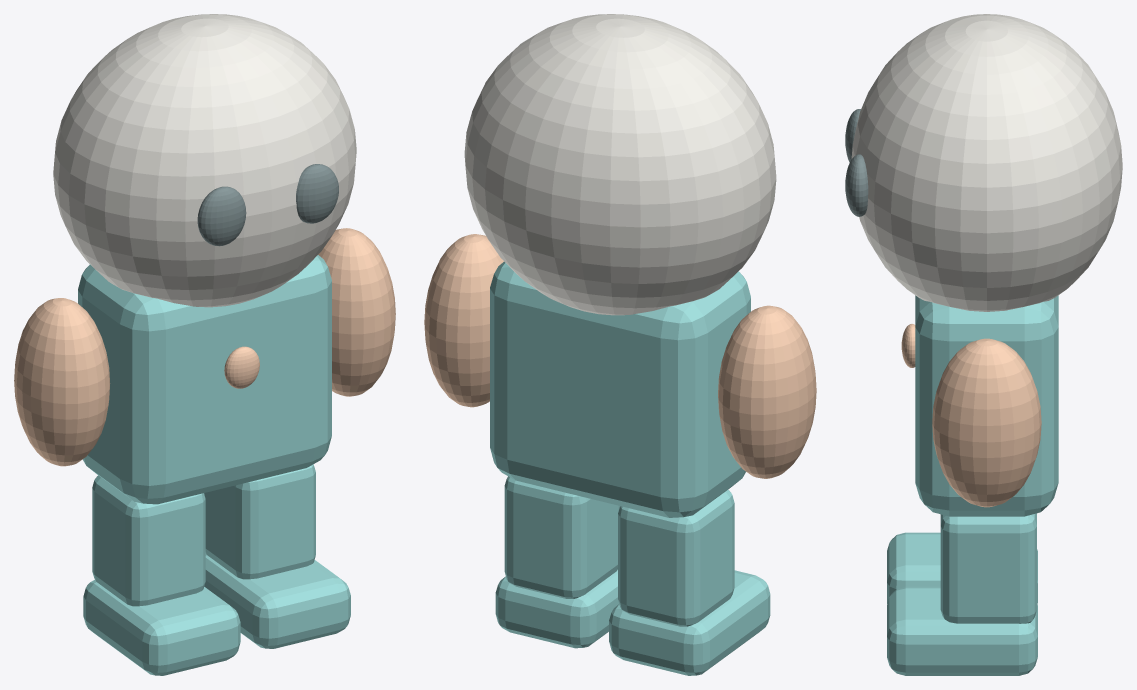
The model's file is image-model.glb.
The picture shows the model from 3 angles, left to right: view 1: azimuth 30°, elevation 25°; view 2: azimuth 150°, elevation 25°; view 3: azimuth 270°, elevation 25°; orthographic projection. The views are drawn at different scales.
Visible parts, largest first — view 1: Large faceted ivory head, Rounded turquoise torso, Left peach capsule arm, Left short leg, Right short leg, Left broad foot, Right peach capsule arm, Right broad foot, Left slate oval eye, Right slate oval eye, Peach chest button; view 2: Large faceted ivory head, Rounded turquoise torso, Left peach capsule arm, Left short leg, Right short leg, Right peach capsule arm, Left broad foot, Right broad foot; view 3: Large faceted ivory head, Rounded turquoise torso, Right peach capsule arm, Right short leg, Right broad foot, Left broad foot, Right slate oval eye, Peach chest button, Left slate oval eye.
Part boxes in pixels (bbox=[...]): Large faceted ivory head: bbox=[53, 14, 356, 307]; Rounded turquoise torso: bbox=[78, 255, 331, 504]; Left peach capsule arm: bbox=[14, 298, 110, 466]; Left short leg: bbox=[92, 475, 205, 606]; Right short leg: bbox=[204, 464, 315, 579]; Left broad foot: bbox=[83, 580, 240, 675]; Right peach capsule arm: bbox=[318, 228, 395, 396]; Right broad foot: bbox=[204, 553, 350, 648]; Left slate oval eye: bbox=[197, 186, 246, 246]; Right slate oval eye: bbox=[296, 164, 338, 223]; Peach chest button: bbox=[224, 346, 259, 388]; Large faceted ivory head: bbox=[464, 14, 776, 315]; Rounded turquoise torso: bbox=[490, 261, 750, 517]; Left peach capsule arm: bbox=[718, 305, 816, 478]; Left short leg: bbox=[618, 489, 734, 626]; Right short leg: bbox=[504, 476, 619, 598]; Right peach capsule arm: bbox=[424, 234, 503, 407]; Left broad foot: bbox=[609, 570, 770, 675]; Right broad foot: bbox=[495, 569, 619, 648]; Large faceted ivory head: bbox=[851, 14, 1122, 311]; Rounded turquoise torso: bbox=[915, 295, 1058, 516]; Right peach capsule arm: bbox=[932, 338, 1041, 507]; Right short leg: bbox=[940, 513, 1036, 623]; Right broad foot: bbox=[887, 586, 1037, 675]; Left broad foot: bbox=[887, 532, 1037, 603]; Right slate oval eye: bbox=[845, 154, 868, 216]; Peach chest button: bbox=[901, 324, 915, 367]; Left slate oval eye: bbox=[845, 109, 860, 162].
Size of the model in its own units: 2.25 by 3.52 by 1.47.
